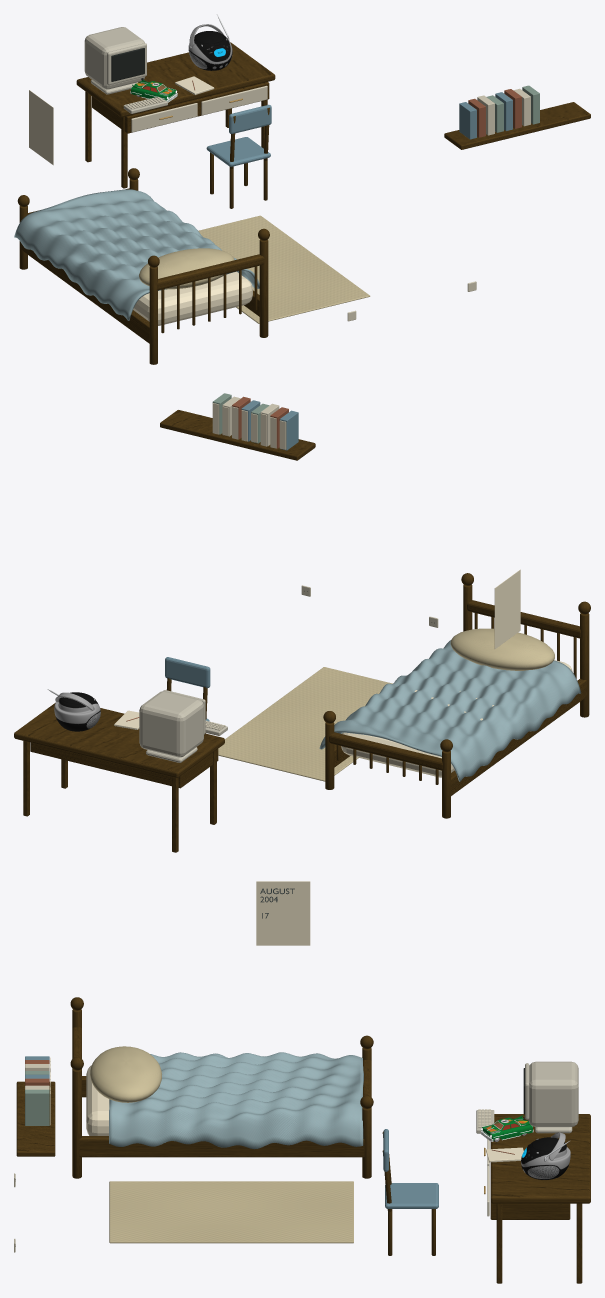
Rendered from SM_BedroomFurniture.glb.
3 renders of one model, top to bottom at view 1: azimuth 30°, elevation 25°; view 2: azimuth 150°, elevation 25°; view 3: azimuth 270°, elevation 25°, orthographic. The views are drawn at different scales.
Visible parts, largest first — view 1: SM_BedroomFurniture; view 2: SM_BedroomFurniture; view 3: SM_BedroomFurniture.
Part boxes in pixels (bbox=[...]): SM_BedroomFurniture: bbox=[14, 14, 590, 364]; SM_BedroomFurniture: bbox=[14, 393, 590, 852]; SM_BedroomFurniture: bbox=[14, 881, 590, 1283].
Bounding box in the file's own units: 4.3 × 1.94 × 4.48.
15 materials, 5 textured.
